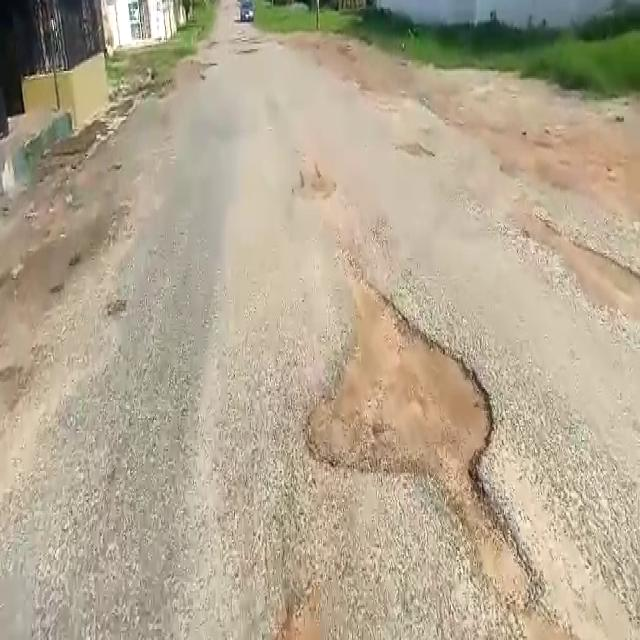Pothole: (302, 288, 502, 496), (498, 204, 640, 340)
